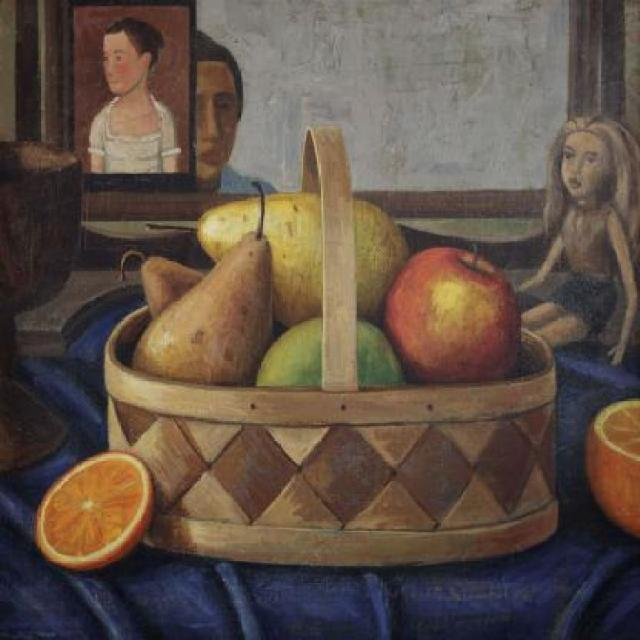Pear: (130, 182, 279, 390), (114, 248, 204, 323)
